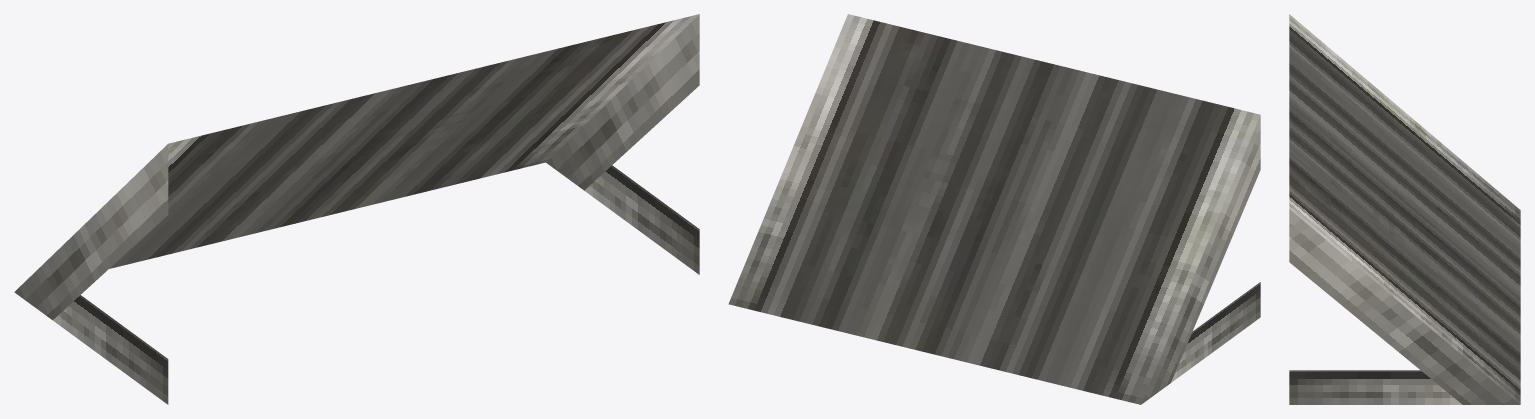
Rendered from detail-awning-small.glb.
3 views of the same model, side by side, from view 1: azimuth 30°, elevation 25°; view 2: azimuth 150°, elevation 25°; view 3: azimuth 270°, elevation 25° (orthographic). The views are drawn at different scales.
Parts seen in each view (by area): view 1: detail-awning-small; view 2: detail-awning-small; view 3: detail-awning-small.
Boxes of the visible parts, box(x1,y1,x2,y2) form: detail-awning-small: box(14, 14, 699, 404); detail-awning-small: box(728, 14, 1260, 404); detail-awning-small: box(1289, 14, 1520, 404).
Bounding box in the file's own units: 0.5978 × 0.2808 × 0.3.
Materials: 1 (1 with a texture image).
